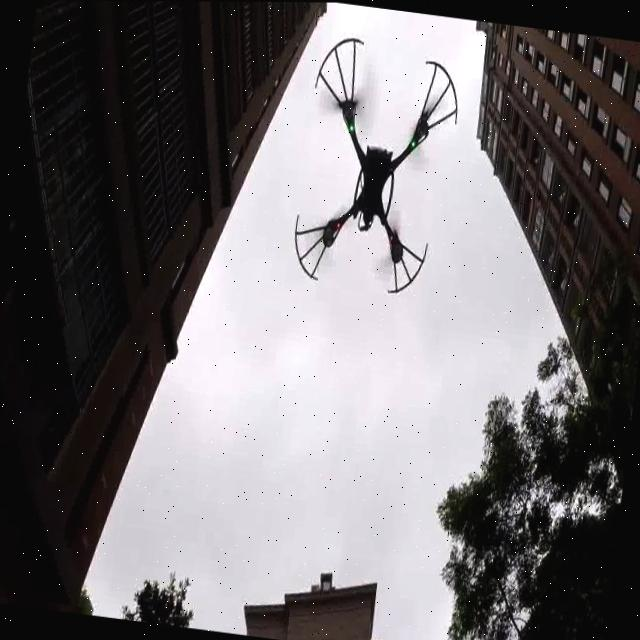drone: (275, 30, 463, 314)
